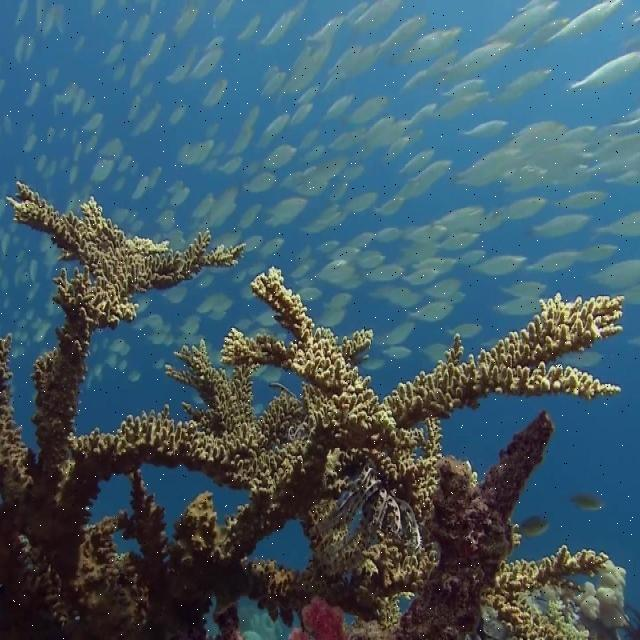reefs: (0, 186, 623, 639)
